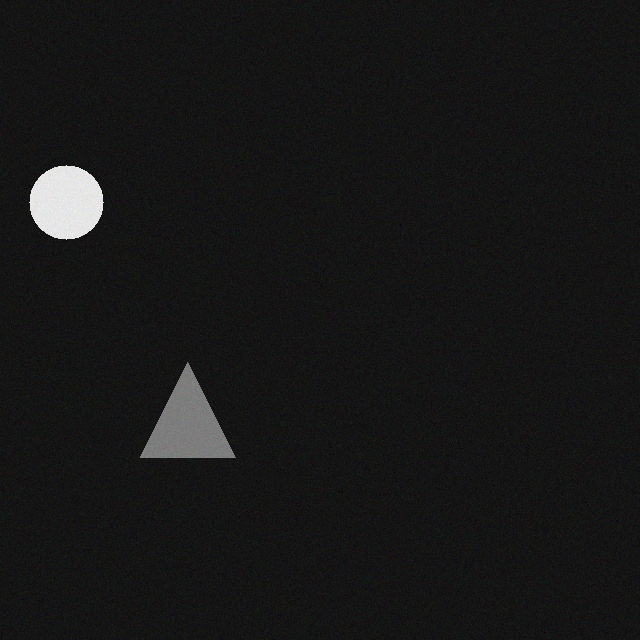circle: (22, 151, 96, 225)
triangle: (133, 348, 228, 443)
